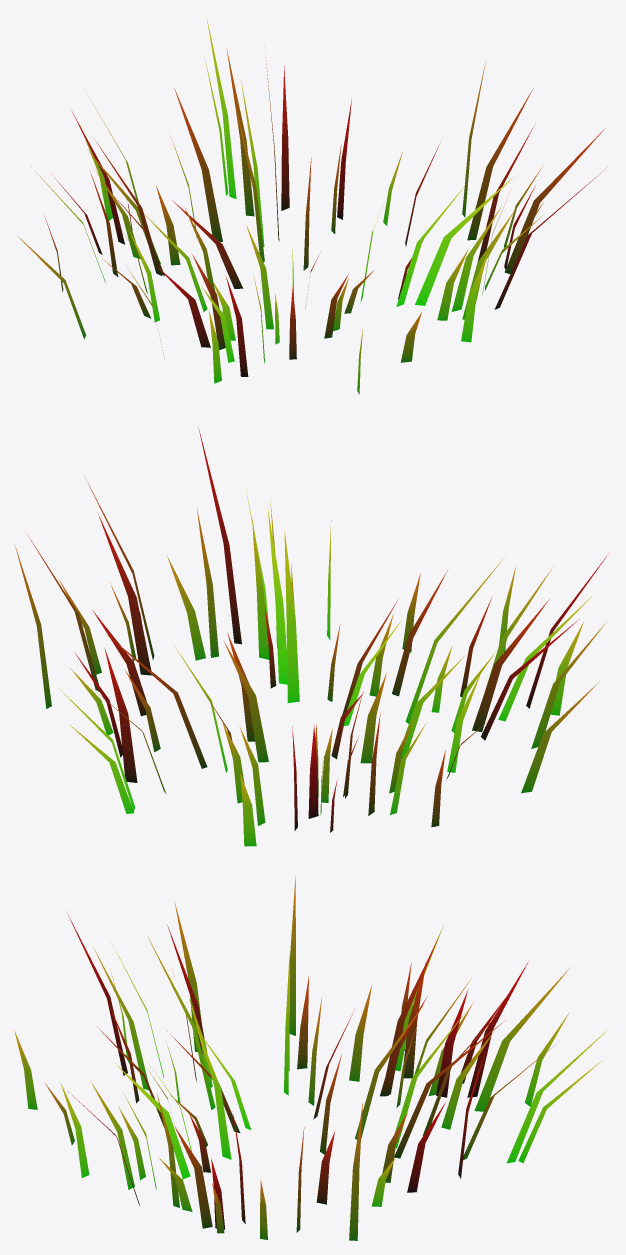
The model's file is SM_GrassPatch.fbx.
3 views of the same model, one above another, from view 1: azimuth 30°, elevation 25°; view 2: azimuth 150°, elevation 25°; view 3: azimuth 270°, elevation 25° (orthographic). The views are drawn at different scales.
Parts seen in each view (by area): view 1: SM_GrassPatch; view 2: SM_GrassPatch; view 3: SM_GrassPatch.
Boxes of the visible parts, x1=… form: SM_GrassPatch: x1=17, y1=17, x2=607, y2=394; SM_GrassPatch: x1=14, y1=425, x2=608, y2=846; SM_GrassPatch: x1=14, y1=876, x2=610, y2=1240.
Bounding box in the file's own units: 0.8284 × 0.23 × 0.7768.
